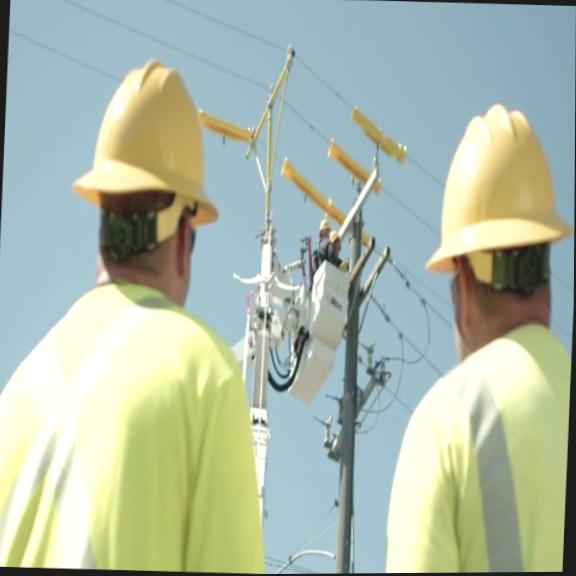safety_vest: (0, 275, 276, 575), (382, 315, 573, 573)
